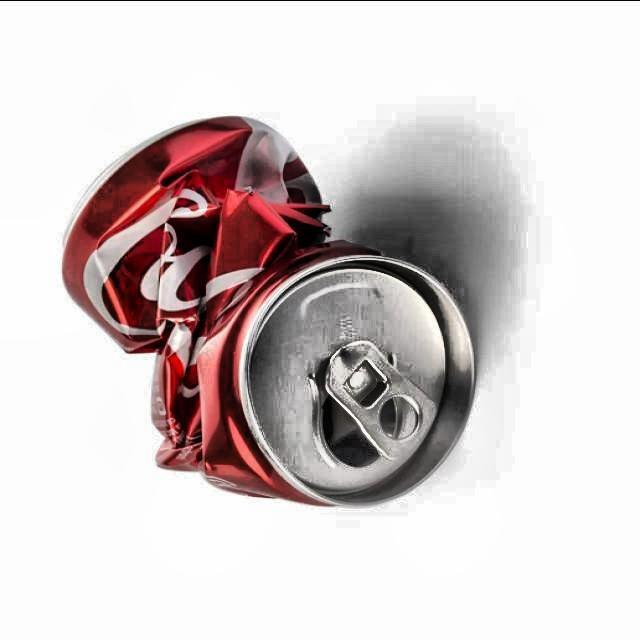metal: (60, 116, 478, 511)
